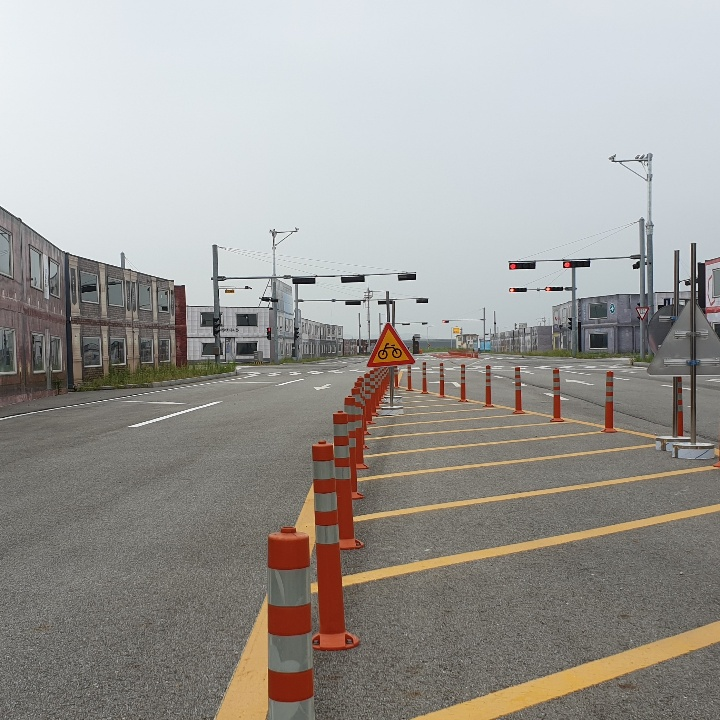bicycle: (367, 324, 412, 372)
